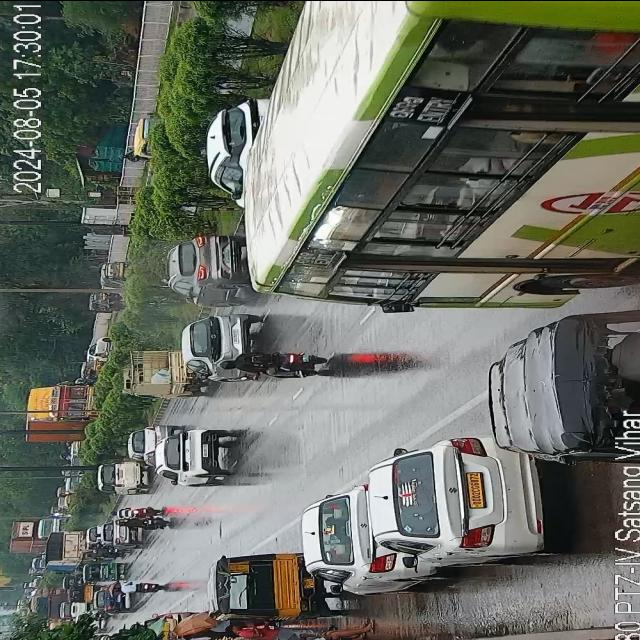2-wheelers: (220, 349, 330, 376), (116, 578, 168, 596), (108, 504, 160, 518), (116, 516, 174, 528)
auto: (204, 550, 314, 620), (128, 108, 158, 158), (80, 561, 124, 585), (85, 290, 126, 310), (103, 257, 126, 288), (66, 584, 94, 602)
bus: (219, 0, 640, 314)
car: (351, 434, 548, 586), (302, 484, 446, 594), (205, 98, 261, 206), (182, 312, 264, 378), (158, 426, 232, 486), (97, 458, 152, 496), (92, 583, 130, 615), (130, 426, 162, 464), (98, 526, 139, 546)
pedestrian: (271, 618, 375, 640), (163, 631, 220, 640)
truck: (168, 229, 252, 303), (24, 382, 99, 443), (122, 346, 210, 396), (44, 527, 94, 569), (8, 518, 62, 552)
